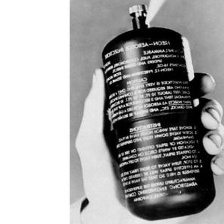aerosol_cans: (92, 0, 218, 223)
